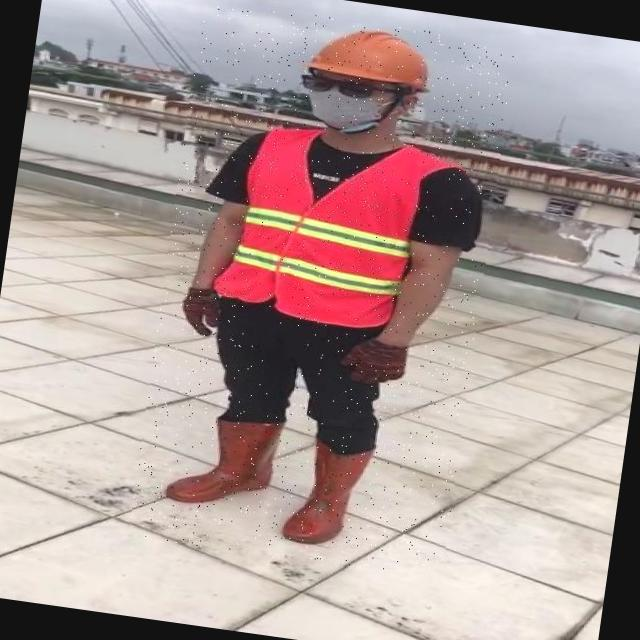boots: (163, 406, 290, 517), (282, 440, 374, 553)
gloves: (340, 341, 407, 387), (180, 285, 219, 338)
vest: (215, 121, 437, 335)
